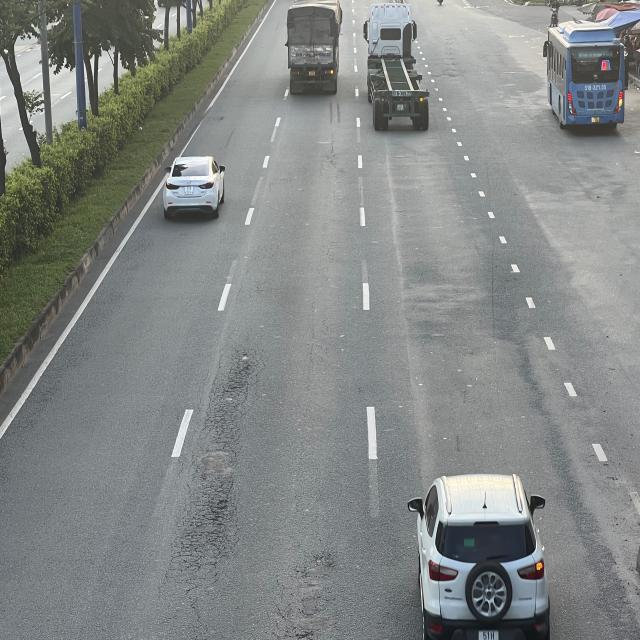car: (403, 474, 548, 640), (163, 156, 226, 217)
coach: (543, 20, 626, 126)
container: (363, 3, 428, 130)
truck: (285, 0, 343, 95)
